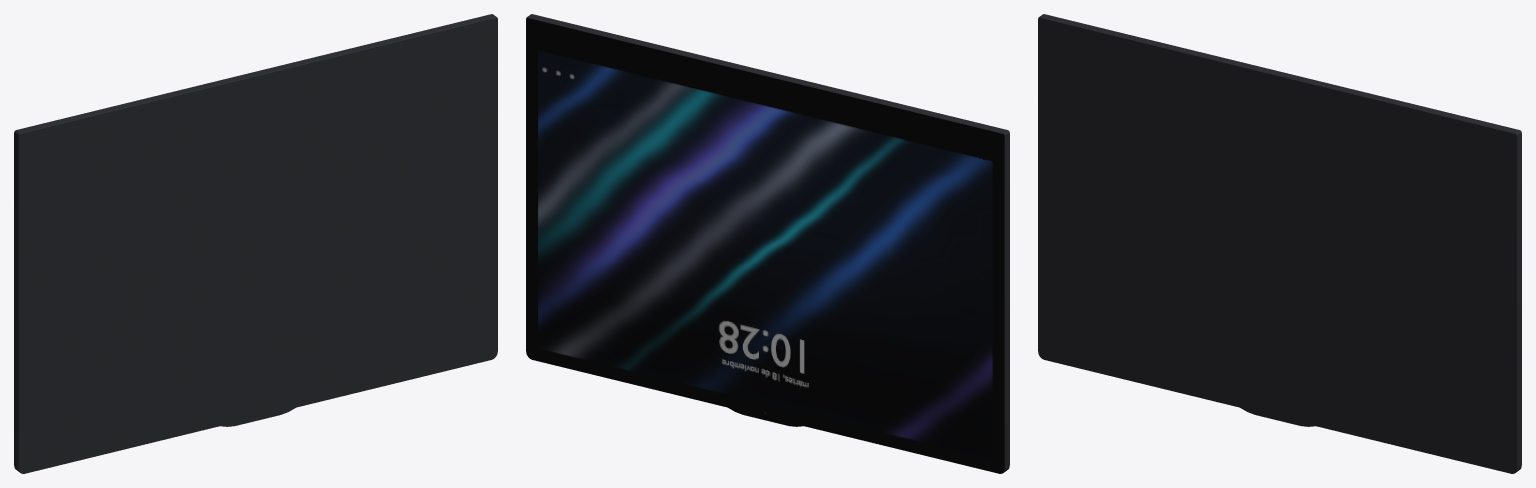
File: lid.obj
3 renders of one model, left to right at view 1: azimuth 30°, elevation 25°; view 2: azimuth 150°, elevation 25°; view 3: azimuth 330°, elevation 25°, orthographic.
Parts seen in each view (by area): view 1: lid.001, lid; view 2: display, lid; view 3: lid.001, lid.
Part boxes in pixels (box(x1,y1,x2,y2)): lid.001: box(19, 18, 497, 473); lid: box(14, 14, 497, 473); display: box(526, 18, 1004, 473); lid: box(526, 14, 1009, 473); lid.001: box(1038, 18, 1516, 473); lid: box(1038, 14, 1521, 473).
Bounding box in the file's own units: 364 × 250 × 6.42.
Materials: 3 (2 with a texture image).
